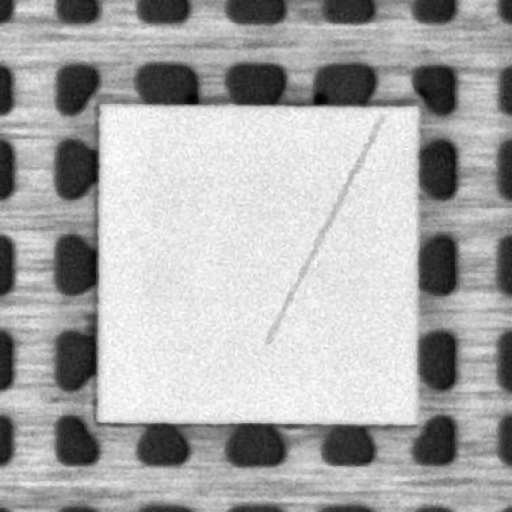DIE_CRACK: (265, 115, 381, 343)
